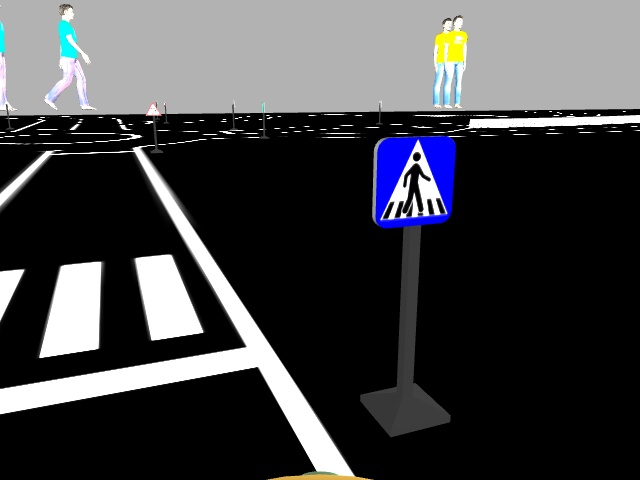Crosswalk: (366, 136, 459, 230)
